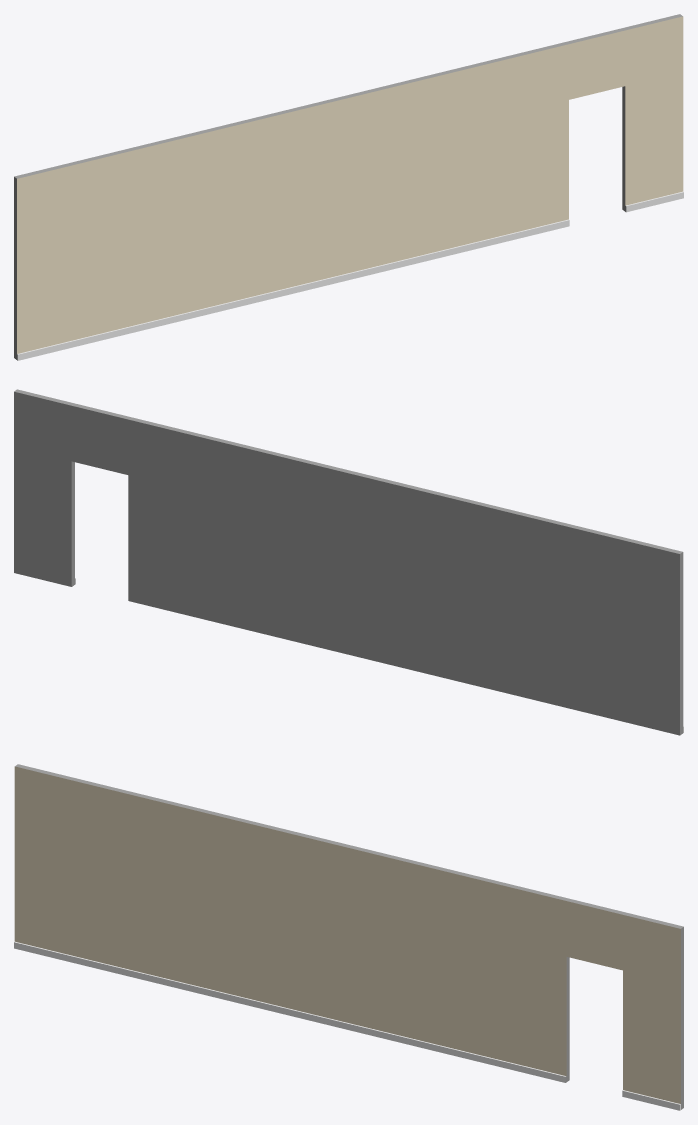
File: Wall 1.FBX
3 renders of one model, top to bottom at view 1: azimuth 30°, elevation 25°; view 2: azimuth 150°, elevation 25°; view 3: azimuth 330°, elevation 25°, orthographic.
Visible parts, largest first — view 1: Wall 1; view 2: Wall 1; view 3: Wall 1.
Part boxes in pixels (<box>): Wall 1: <box>14,14,683,360</box>; Wall 1: <box>14,389,683,735</box>; Wall 1: <box>14,764,683,1110</box>.
Bounding box in the file's own units: 1162 × 303 × 11.98.
Materials: 3 (1 with a texture image).
